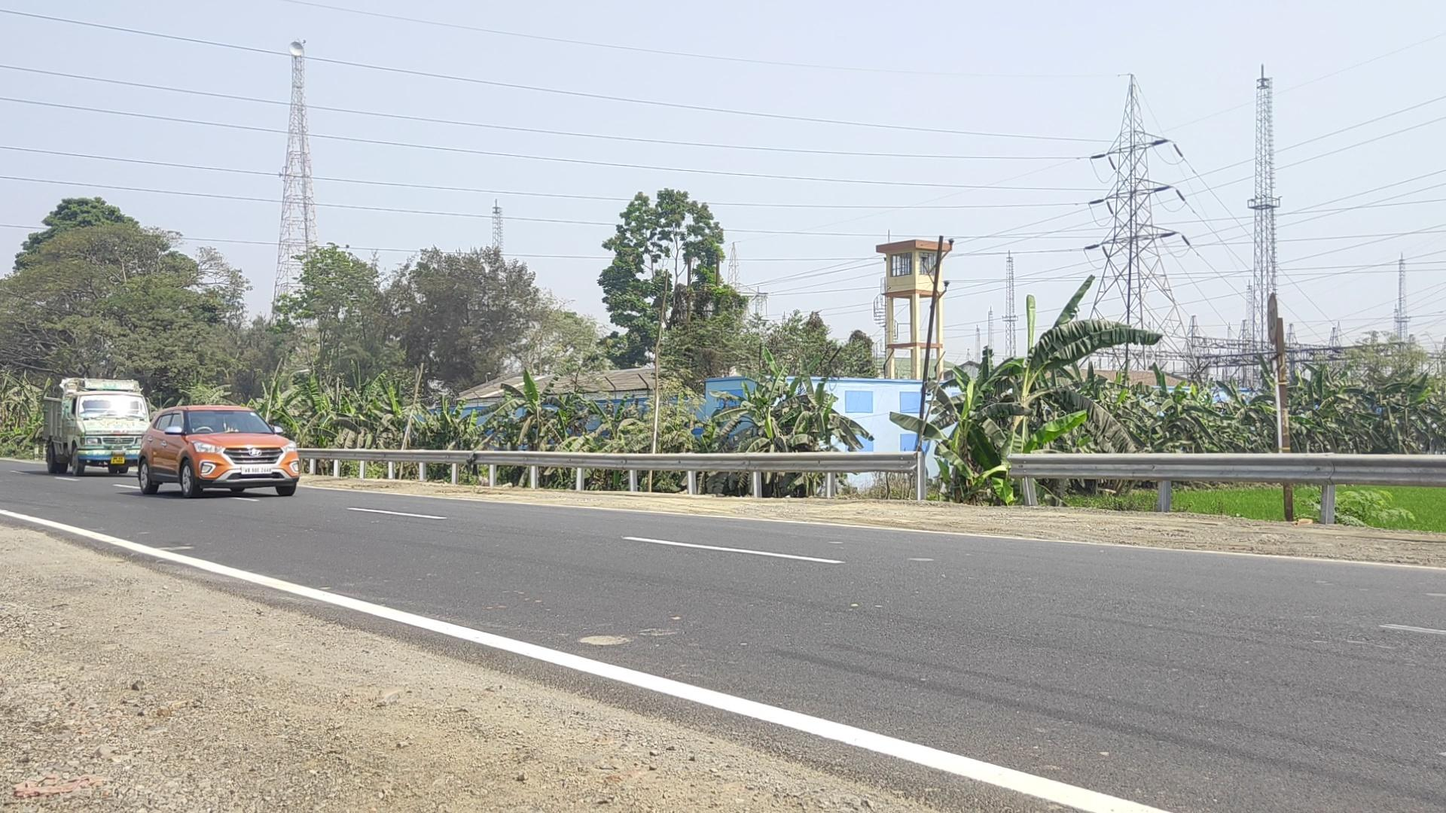car: (137, 405, 300, 499)
truck: (43, 377, 152, 477)
